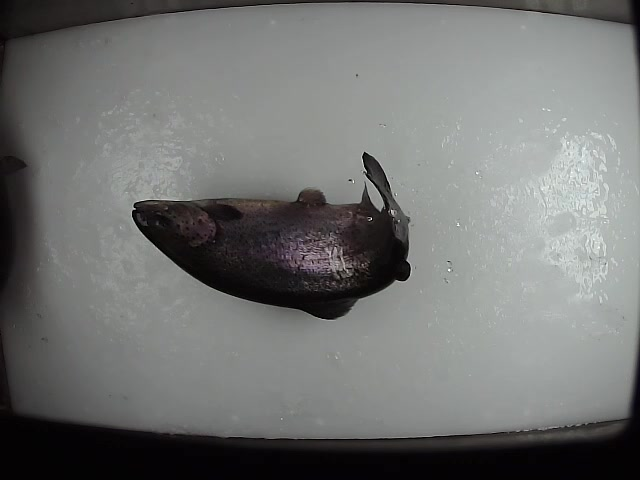fish: (129, 145, 412, 324)
